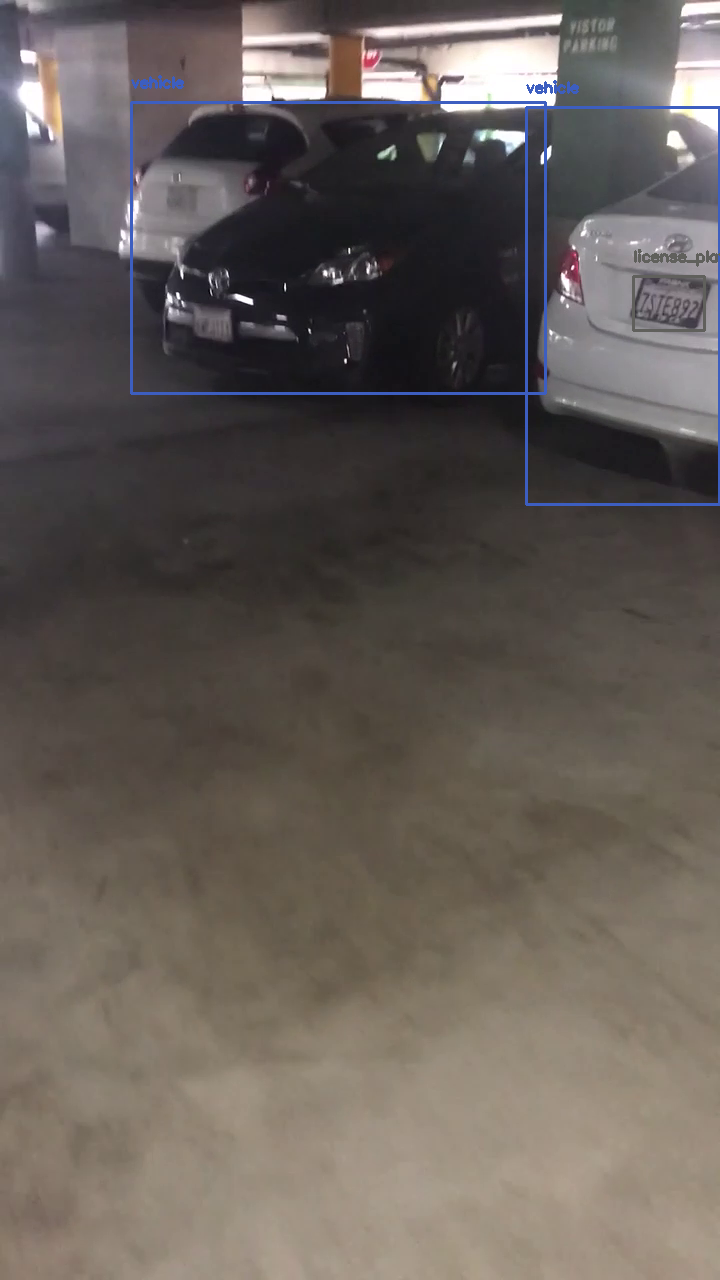license_plate: (633, 276, 704, 330)
vehicle: (131, 102, 545, 393), (526, 107, 719, 504)
